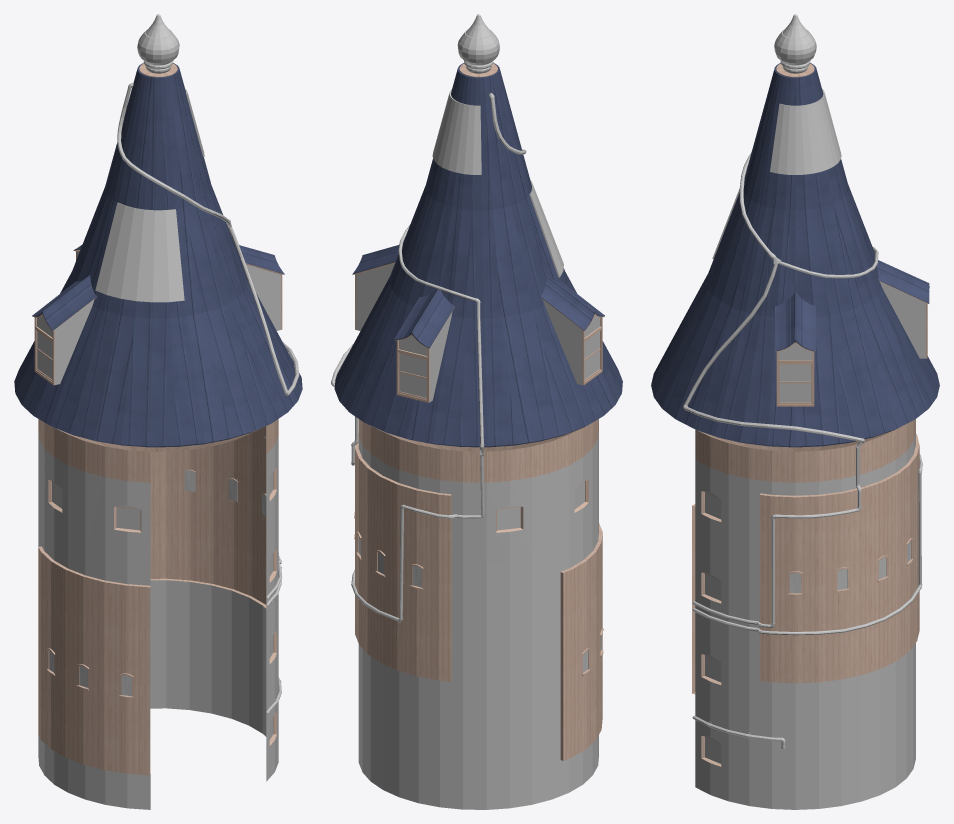
The model's file is REDUCTION_SM_ENV_KNVLLG_AreaH_Tower_A_1.mo.fbx.
The picture shows the model from 3 angles, left to right: view 1: azimuth 30°, elevation 25°; view 2: azimuth 150°, elevation 25°; view 3: azimuth 270°, elevation 25°; orthographic projection.
Visible parts, largest first — view 1: REDUCTION_SM_ENV_KNVLLG_AreaH_Tower_A_1.mo; view 2: REDUCTION_SM_ENV_KNVLLG_AreaH_Tower_A_1.mo; view 3: REDUCTION_SM_ENV_KNVLLG_AreaH_Tower_A_1.mo.
Boxes of the visible parts, box(x1,y1,x2,y2) form: REDUCTION_SM_ENV_KNVLLG_AreaH_Tower_A_1.mo: box(14, 14, 302, 809); REDUCTION_SM_ENV_KNVLLG_AreaH_Tower_A_1.mo: box(331, 14, 622, 809); REDUCTION_SM_ENV_KNVLLG_AreaH_Tower_A_1.mo: box(651, 14, 939, 809).
Bounding box in the file's own units: 19.2 × 54.64 × 19.2.
